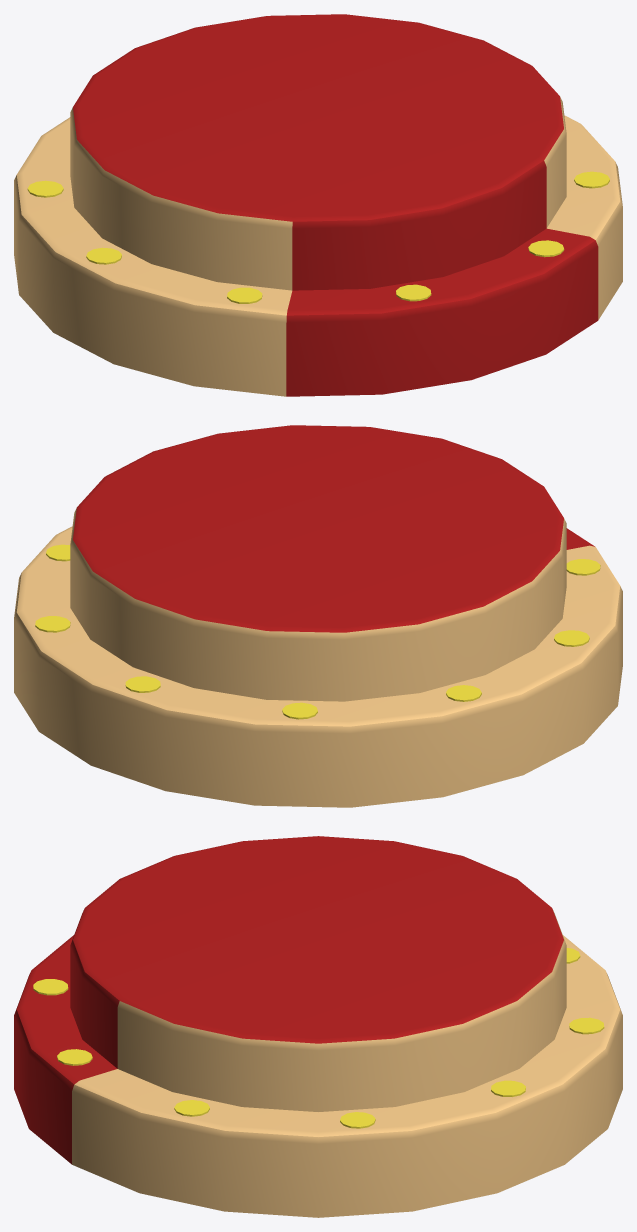
File: winner_award.fbx
3 views of the same model, one above another, from view 1: azimuth 30°, elevation 25°; view 2: azimuth 150°, elevation 25°; view 3: azimuth 270°, elevation 25° (orthographic).
Visible parts, largest first — view 1: winner_award; view 2: winner_award; view 3: winner_award.
Boxes of the visible parts, x1,y1,x2,y2 form: winner_award: [14, 14, 622, 396]; winner_award: [14, 425, 622, 807]; winner_award: [14, 836, 622, 1217].
Bounding box in the file's own units: 641 × 176 × 641.
